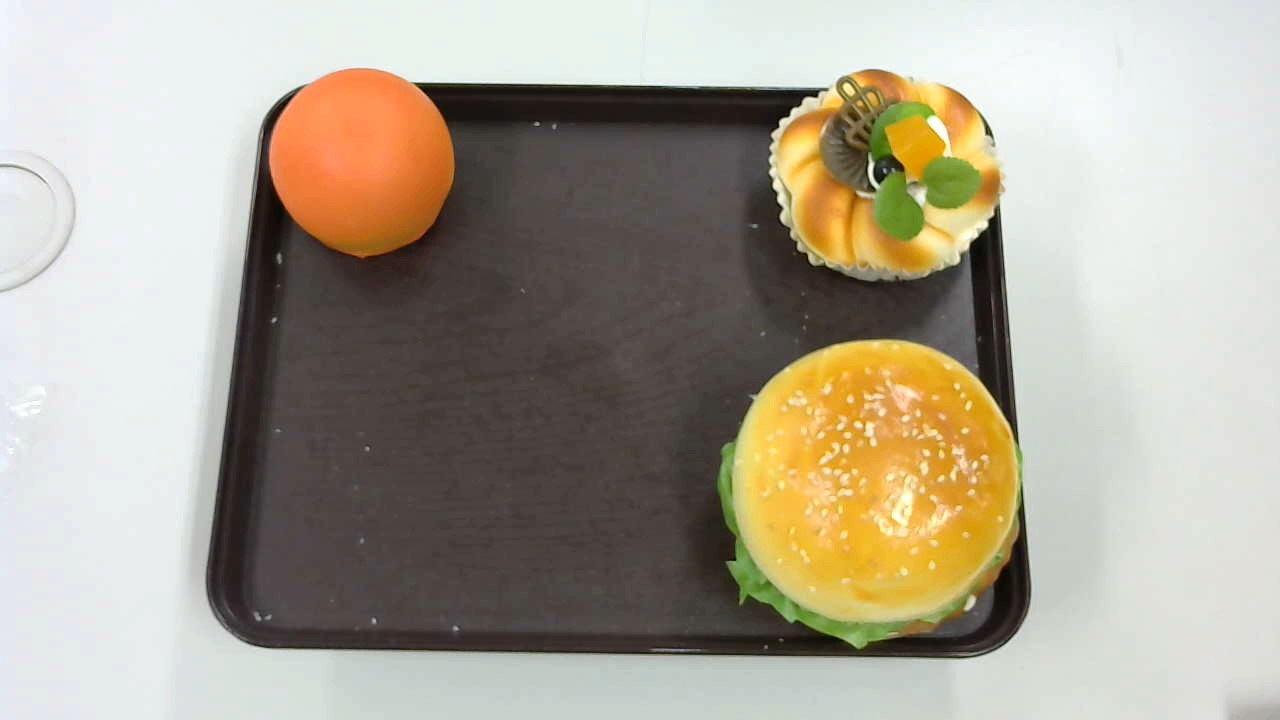bun: (269, 69, 456, 257)
fruit tart: (768, 69, 1006, 283)
hamburger: (715, 339, 1023, 651)
